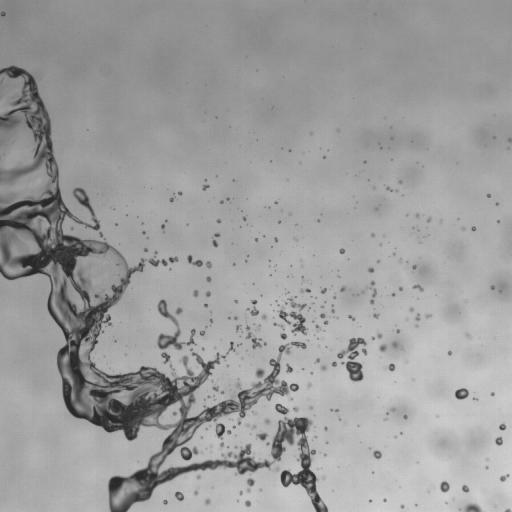droplet: (337, 337, 367, 381), (274, 297, 306, 335), (249, 300, 259, 316), (454, 388, 468, 399), (246, 477, 254, 492), (0, 79, 9, 92), (256, 431, 267, 441), (440, 481, 449, 492), (386, 363, 395, 371), (373, 450, 381, 458), (175, 492, 183, 500), (500, 474, 509, 481), (175, 307, 182, 315), (379, 344, 386, 352), (495, 437, 502, 445), (286, 364, 292, 373), (499, 423, 506, 430), (462, 485, 469, 492), (320, 364, 327, 370), (212, 239, 217, 247), (202, 184, 208, 190), (315, 325, 321, 331), (280, 333, 286, 339), (212, 385, 218, 391), (292, 406, 298, 412), (264, 418, 270, 424), (245, 500, 251, 506), (206, 261, 211, 268), (193, 290, 198, 297), (368, 267, 374, 272), (340, 286, 346, 291), (205, 291, 210, 297), (373, 313, 379, 318), (349, 315, 355, 320), (415, 314, 420, 320), (205, 498, 210, 504), (386, 186, 391, 191), (339, 248, 344, 253), (206, 276, 211, 281), (321, 288, 326, 293), (199, 330, 204, 335), (392, 342, 397, 347), (331, 361, 336, 366), (256, 324, 260, 330), (427, 217, 431, 222), (214, 233, 219, 237), (409, 307, 414, 311), (262, 314, 266, 319), (425, 314, 430, 318), (236, 325, 240, 330), (274, 467, 279, 471), (194, 490, 198, 495), (169, 197, 173, 201), (471, 226, 475, 230), (398, 286, 402, 290), (307, 383, 311, 387), (390, 407, 394, 411), (403, 415, 407, 419), (219, 443, 223, 447), (196, 475, 200, 479), (163, 500, 167, 504), (400, 504, 404, 508), (0, 12, 5, 15), (161, 224, 164, 229), (508, 138, 511, 142), (178, 191, 181, 195), (243, 216, 246, 220), (412, 265, 416, 268), (491, 285, 494, 289), (315, 359, 319, 362), (491, 392, 494, 396), (416, 214, 419, 217), (217, 219, 220, 222), (371, 233, 374, 236), (274, 238, 277, 241), (331, 309, 334, 312), (466, 334, 469, 337), (448, 351, 451, 354), (220, 391, 223, 394), (289, 397, 292, 400), (309, 406, 312, 409), (252, 411, 255, 414), (324, 427, 327, 430), (239, 491, 242, 494), (399, 180, 401, 183), (487, 194, 489, 197), (220, 200, 222, 203), (142, 231, 145, 233), (255, 238, 257, 241), (145, 248, 147, 251), (302, 277, 304, 280), (392, 293, 394, 296), (235, 300, 238, 302), (210, 319, 212, 322), (396, 330, 399, 332), (384, 418, 387, 420), (369, 499, 371, 502), (383, 499, 386, 501), (294, 238, 296, 240), (377, 260, 379, 262), (333, 296, 335, 298), (205, 304, 207, 306), (321, 305, 323, 307), (415, 325, 417, 327), (207, 396, 209, 398), (474, 398, 476, 400), (233, 425, 235, 427), (486, 466, 488, 468)
ligament: (0, 69, 328, 511), (246, 325, 266, 348), (367, 281, 376, 304), (463, 502, 483, 511), (187, 255, 202, 266), (320, 313, 327, 324), (413, 284, 423, 291), (371, 333, 382, 339), (245, 423, 256, 429), (300, 288, 310, 292), (331, 409, 338, 412), (505, 509, 511, 511)
